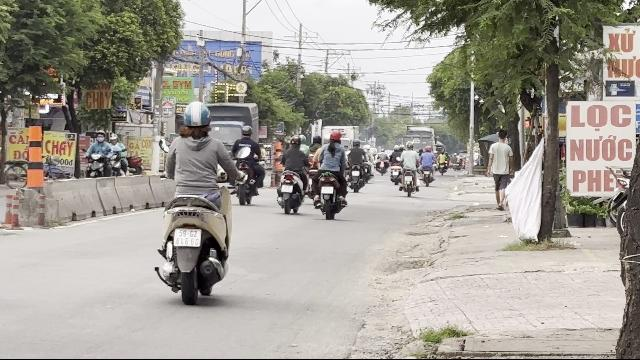helmet: (180, 100, 212, 138)
licenseplate: (173, 229, 200, 247)
motorcyclist: (152, 98, 238, 304)
